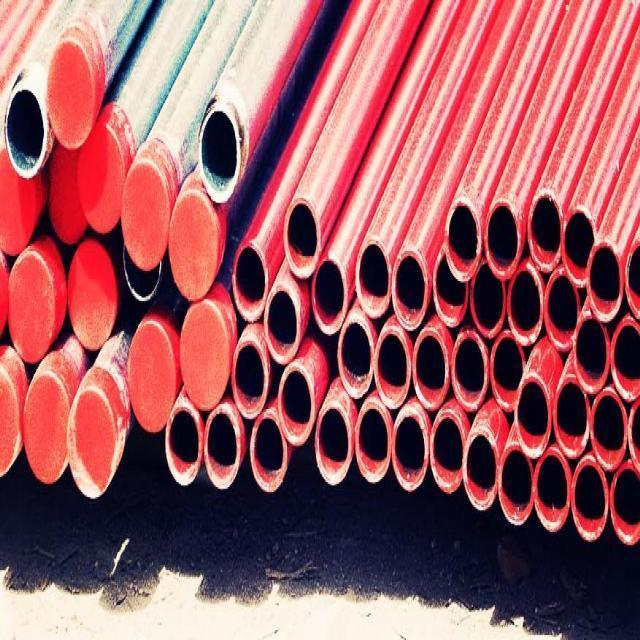pipe: (170, 192, 216, 302), (68, 389, 115, 494), (129, 322, 174, 429), (78, 126, 123, 232), (9, 257, 54, 363), (123, 163, 168, 268), (48, 40, 92, 147), (181, 303, 227, 405), (69, 244, 114, 347), (24, 374, 66, 480), (0, 150, 35, 254), (48, 146, 85, 240), (200, 110, 238, 201), (6, 88, 45, 173), (284, 199, 319, 273), (312, 256, 345, 334), (445, 201, 479, 276), (206, 410, 238, 487), (234, 244, 267, 318), (317, 404, 349, 480), (167, 408, 199, 483), (265, 288, 299, 358), (394, 410, 426, 484), (340, 319, 372, 392), (358, 242, 390, 315), (556, 380, 588, 453), (575, 316, 607, 389), (377, 330, 408, 405), (547, 272, 578, 346), (530, 195, 560, 271), (253, 416, 285, 487), (486, 202, 518, 273), (593, 397, 625, 468), (590, 243, 621, 316), (233, 343, 265, 413), (415, 334, 447, 404), (574, 463, 605, 535), (279, 369, 311, 438), (465, 434, 496, 505), (564, 212, 596, 280), (435, 253, 466, 323), (492, 338, 523, 408), (509, 270, 540, 340), (501, 447, 531, 519), (357, 405, 388, 474), (394, 254, 425, 323), (537, 453, 567, 524), (0, 367, 18, 480), (612, 465, 640, 537), (518, 379, 547, 448), (473, 264, 503, 330), (123, 244, 161, 296), (614, 325, 640, 397), (434, 416, 461, 485), (455, 338, 483, 404), (628, 245, 640, 319), (633, 400, 640, 463)
